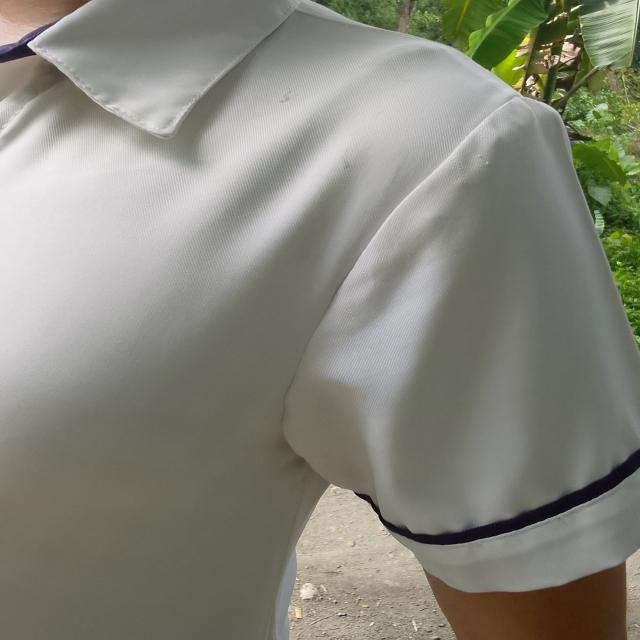education_female_uniform: (5, 5, 640, 610)
